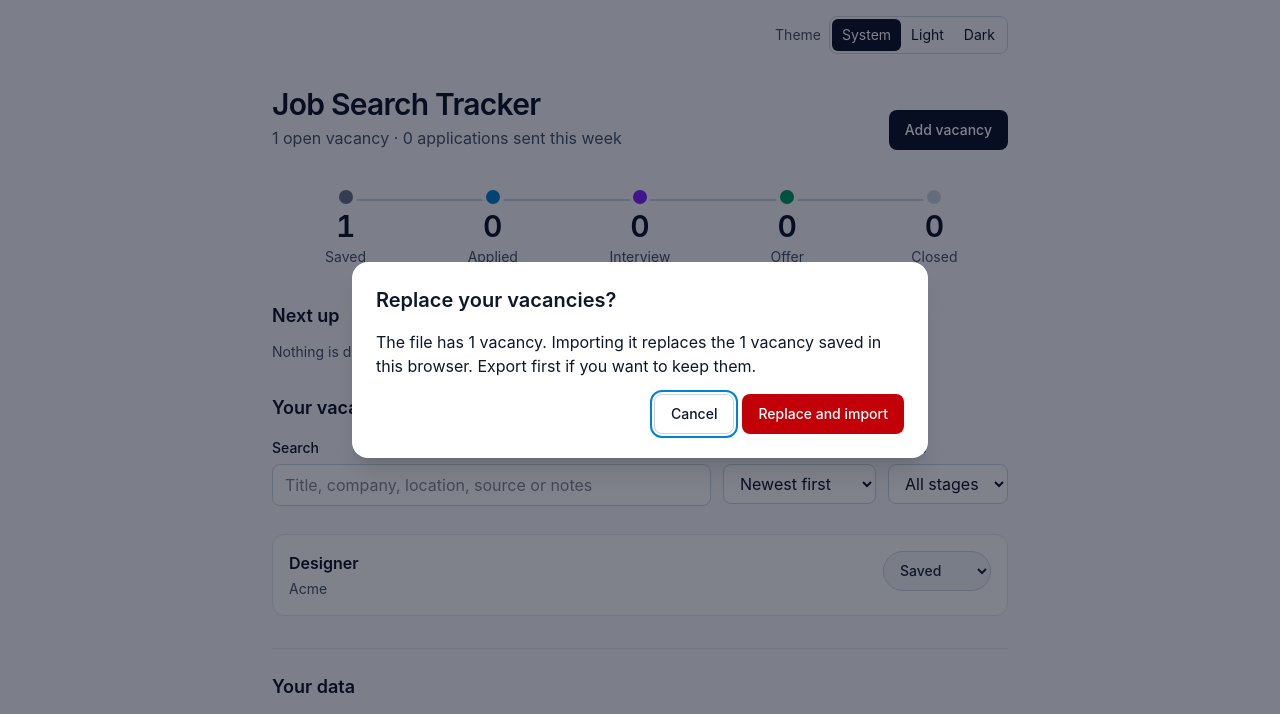
Test: Your data › keeps the saved vacancies when you cancel
Earlier steps of the test are not shown.
Expected: the button "Designer" is shown, [289,550,359,574]
Click the button "Cancel" at (694, 414), box [654,394,734,434]
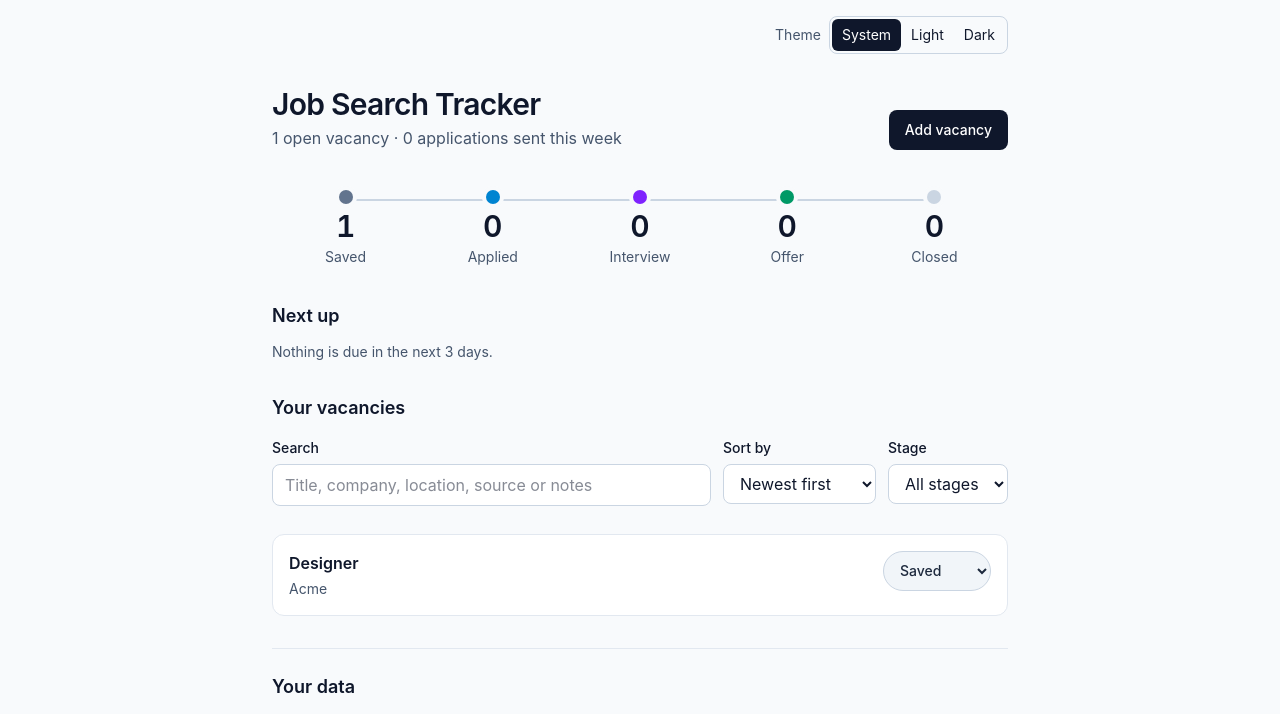
Expected: the button "Designer" is shown, [289,550,359,574]
Now the dialog is gone
